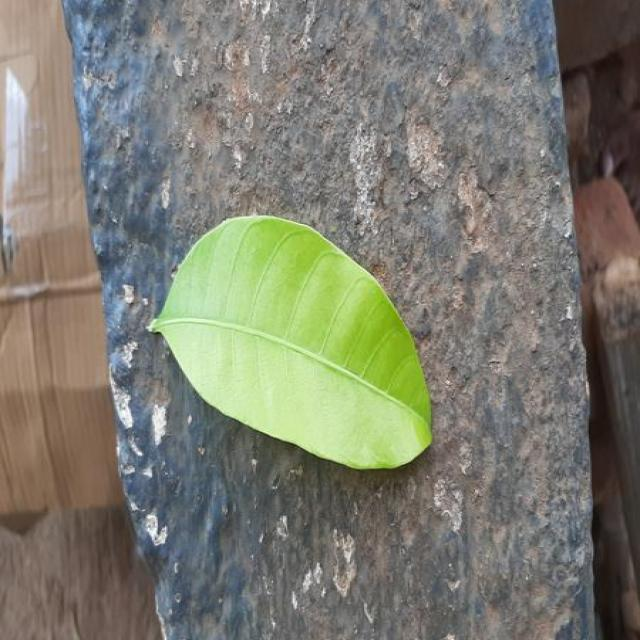mango: (148, 216, 432, 468)
